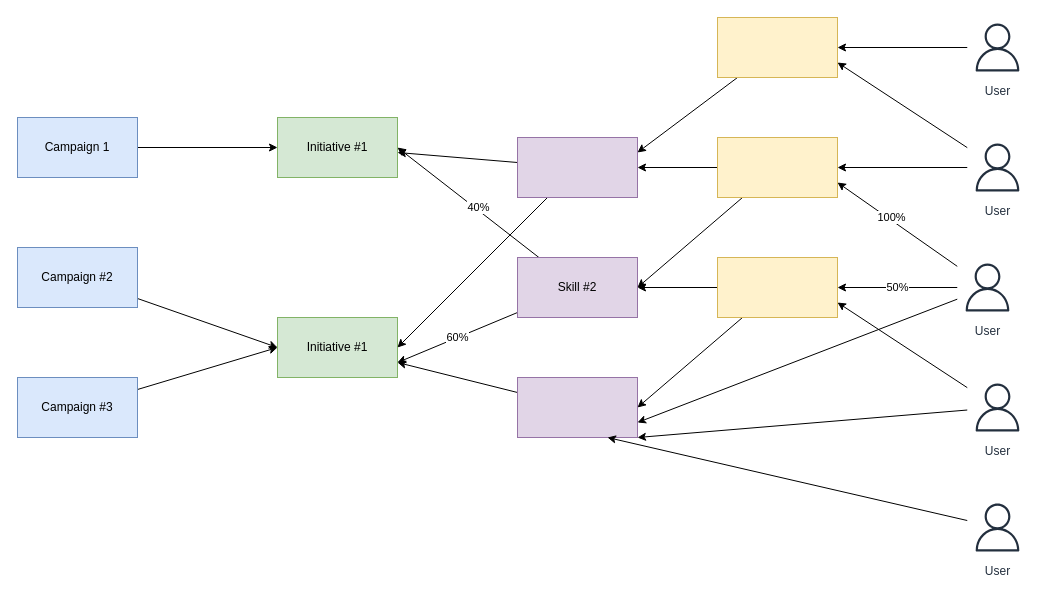
The diagram is 1045 pixels wide and 596 high, and some of its shapes have lost their labels. Here are the shapes that lost their labels. From the top down, the centre of each, then its label:
the point at 777,47: Group #1
the point at 577,167: Skill #1
the point at 777,167: Group #2
the point at 777,287: Group #3
the point at 577,407: Skill #3
